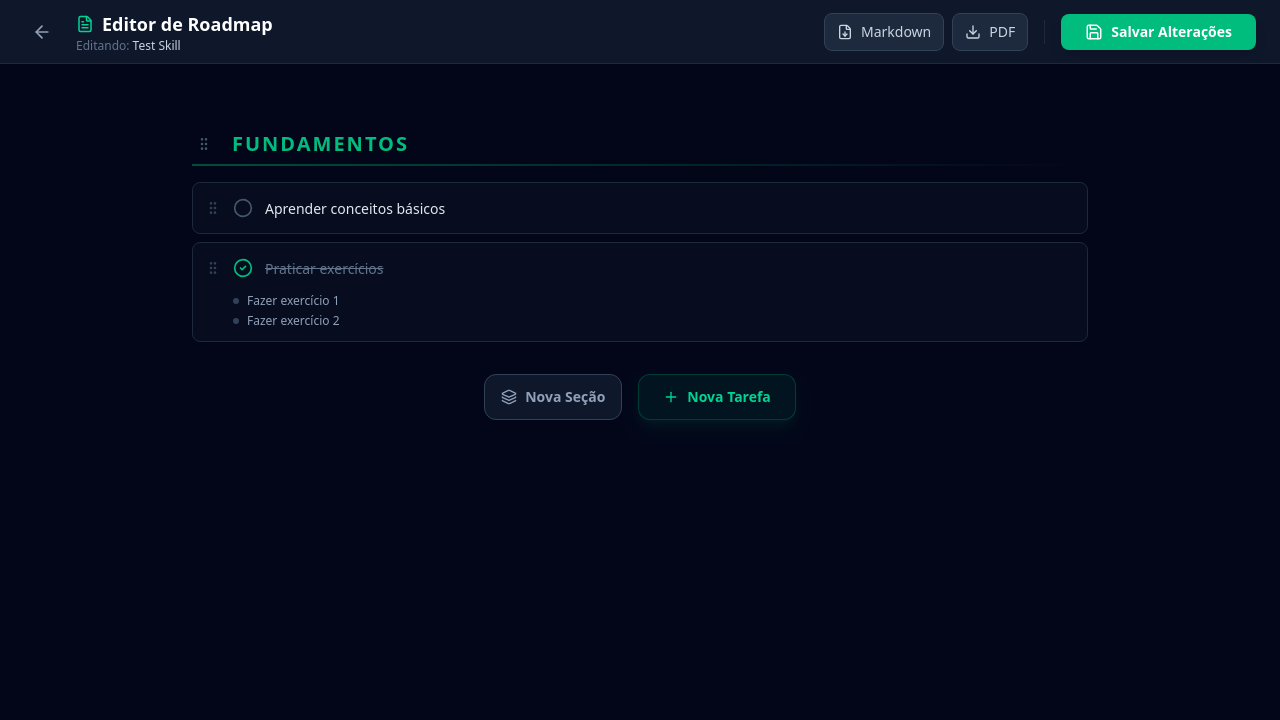
Test: FullRoadmapEditor Component › adds new task when Nova Tarefa button is clicked
The width and height of the screenshot is (1280, 720).
What coordinates should you click on to do the following:
click the button "Nova Tarefa"
I would click on:
 (717, 397)
Its box is left=638, top=374, right=796, bottom=420.
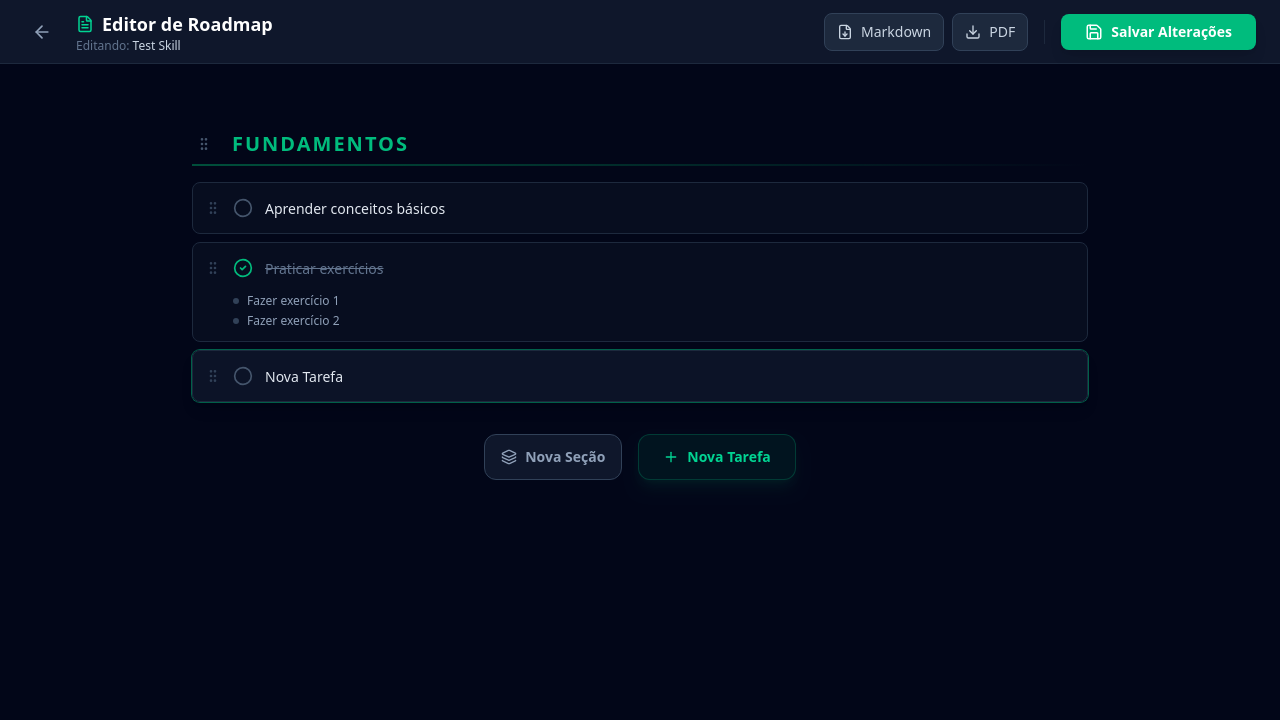
Check: the 6th field showing "Nova Tarefa" is shown, box left=265, top=367, right=1007, bottom=387
